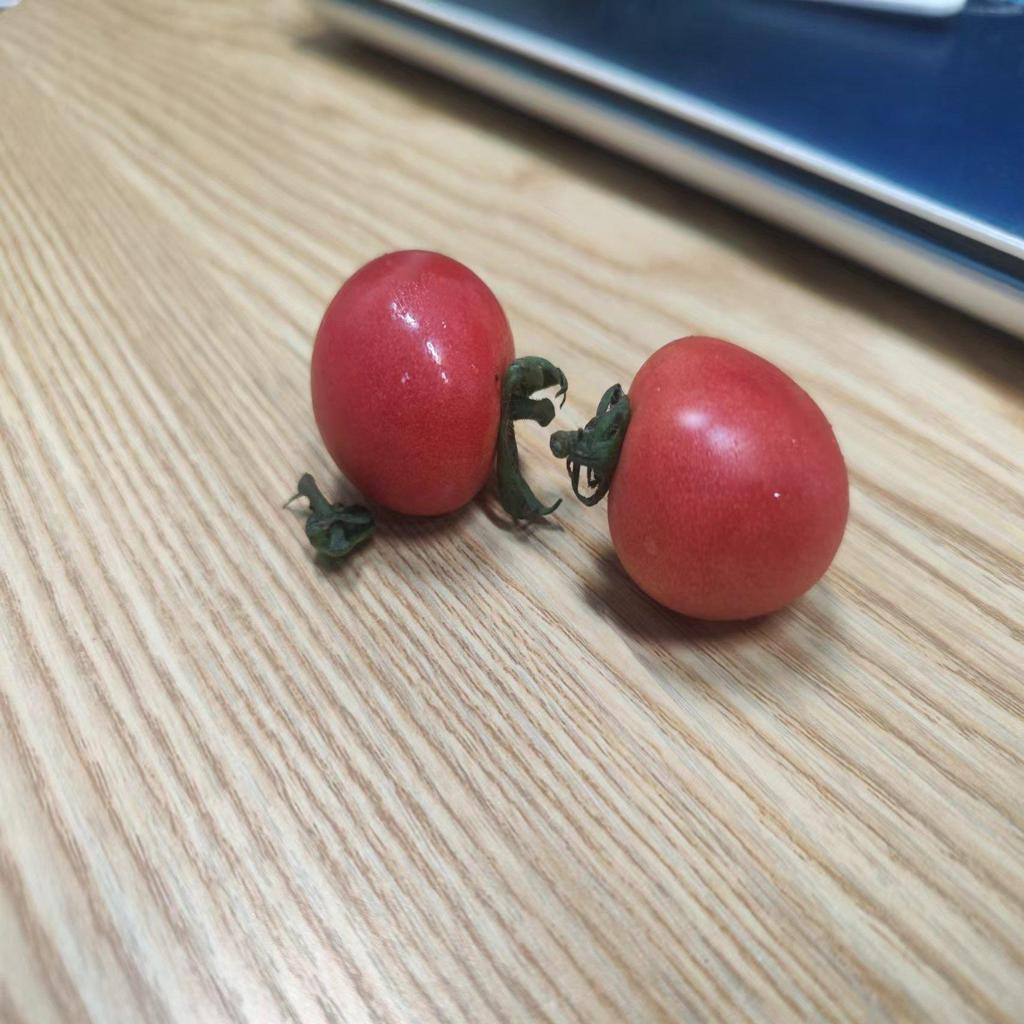tomato: (602, 330, 852, 622), (300, 243, 516, 535)
